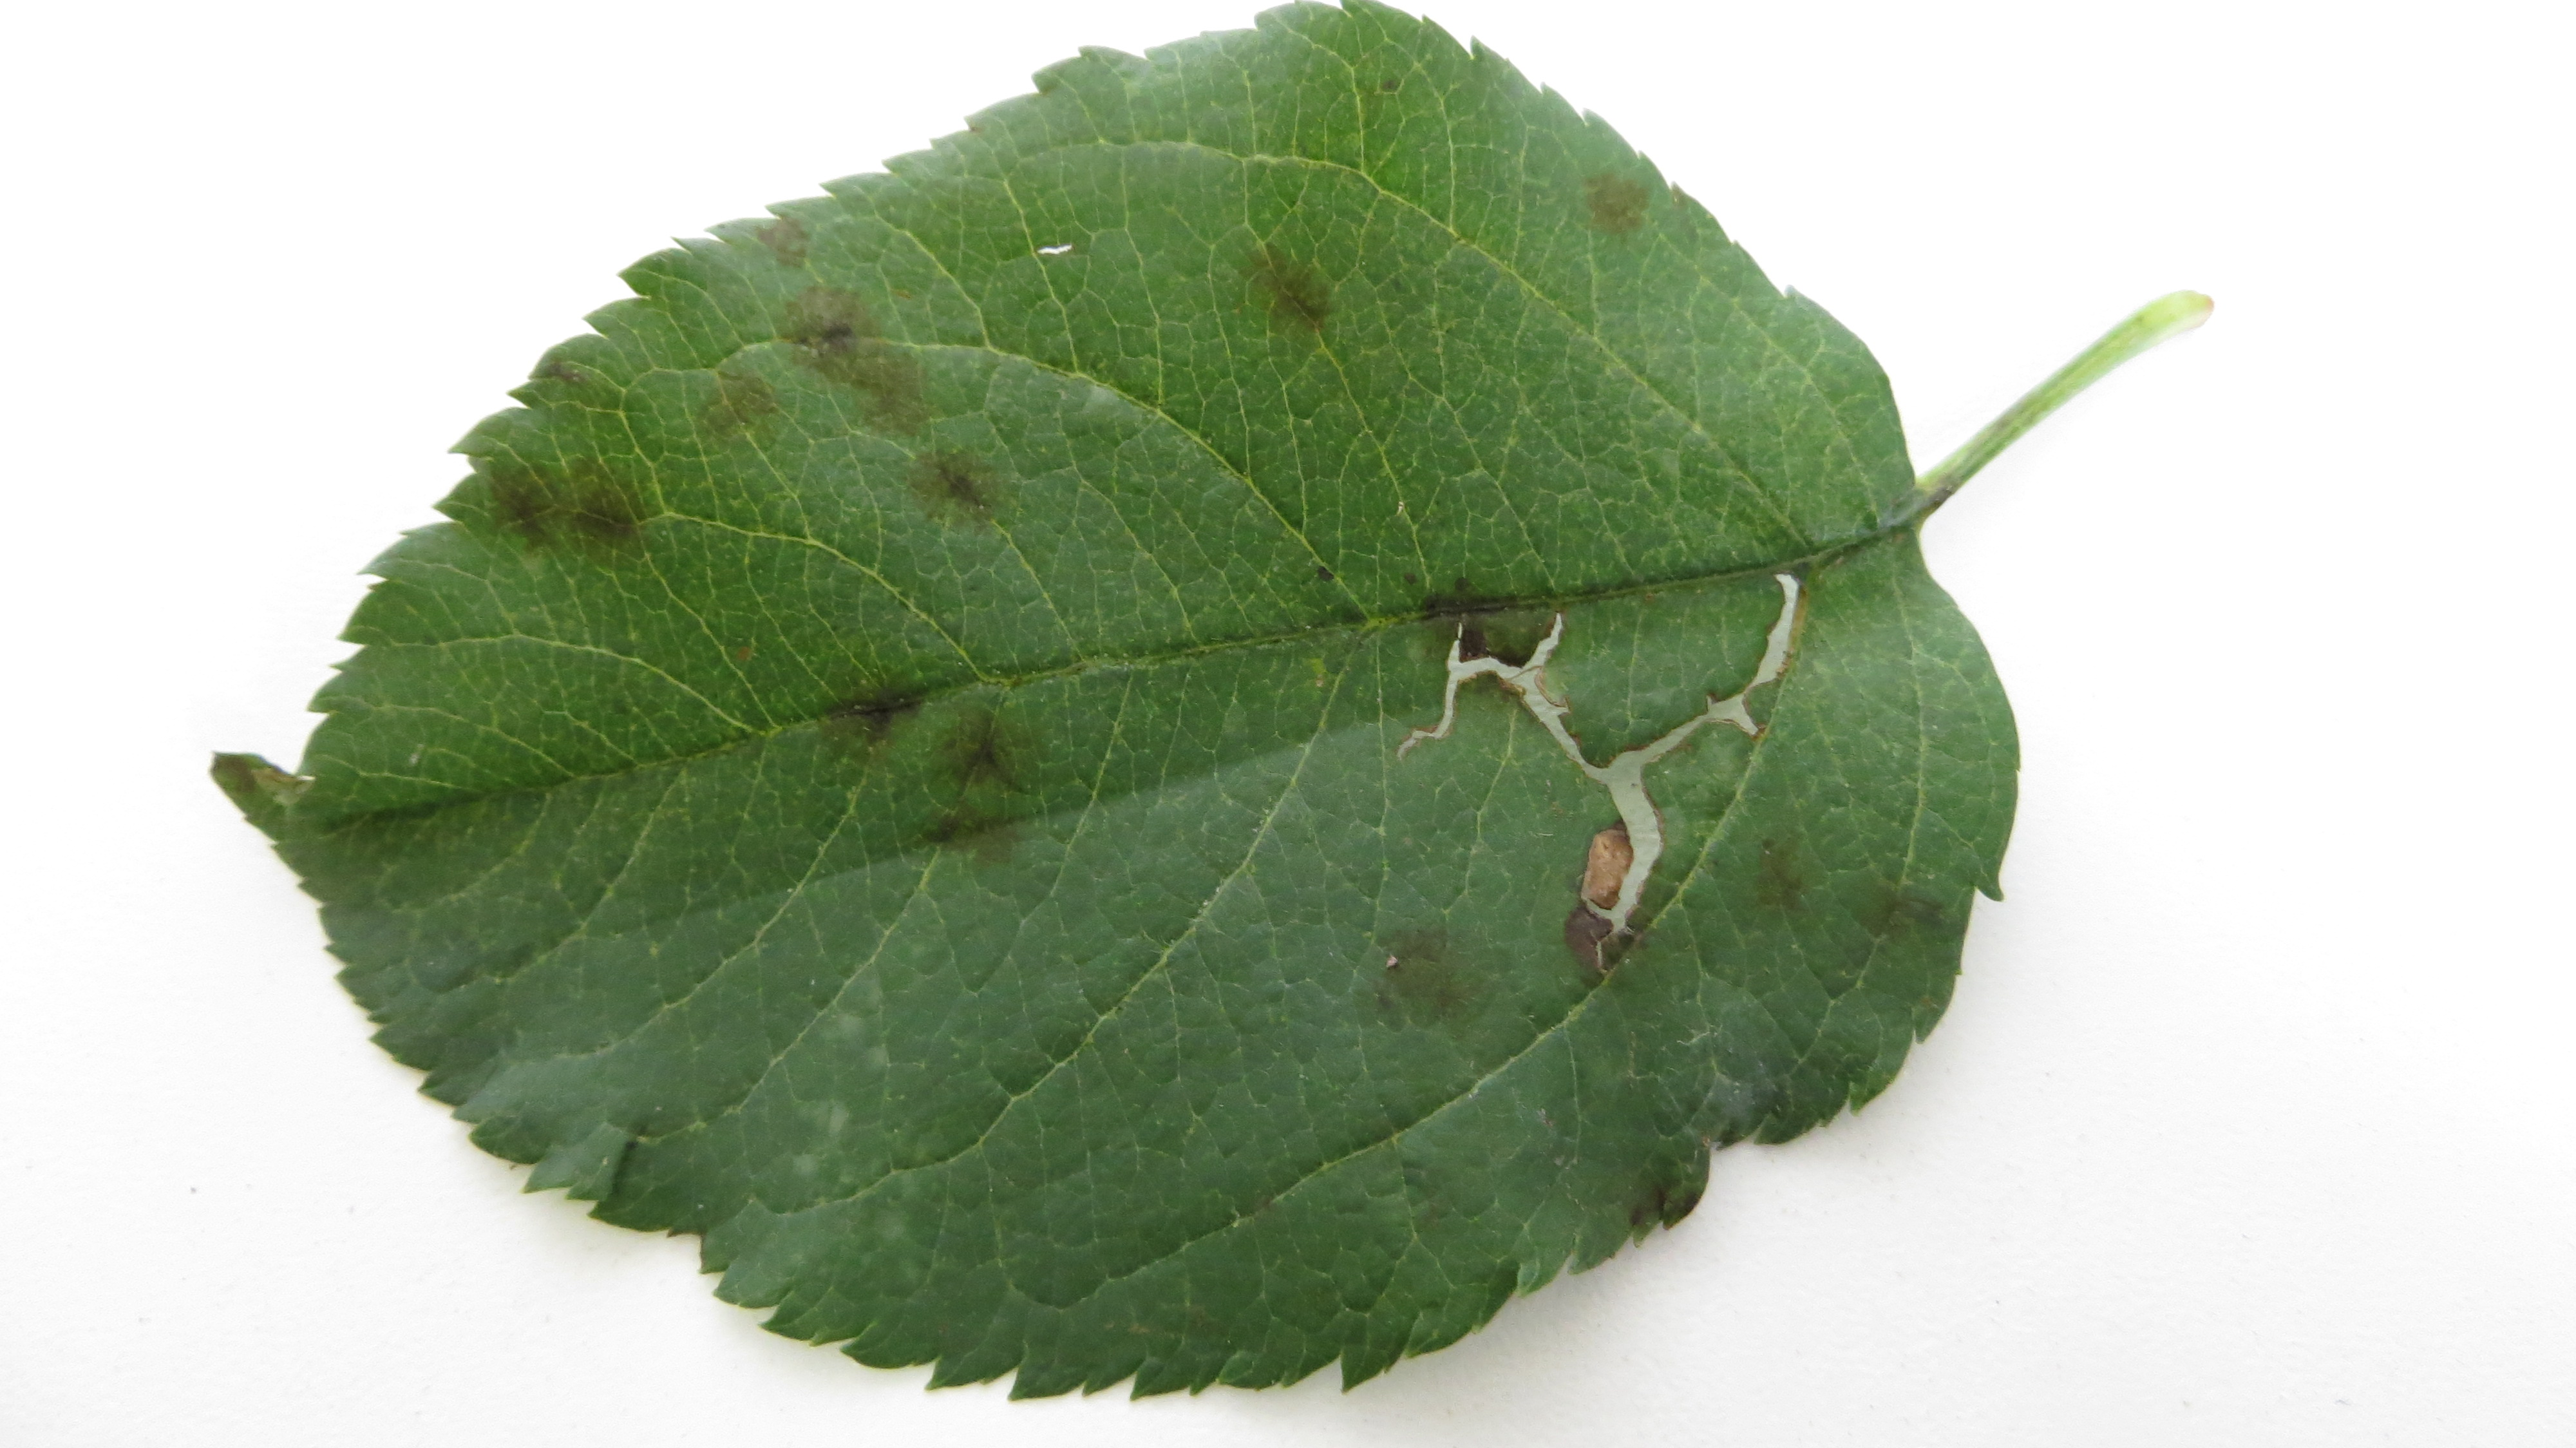sarna: (784, 278, 931, 437), (1348, 912, 1493, 1044), (1431, 581, 1576, 694), (1718, 1032, 1861, 1138), (1557, 862, 1658, 1000), (1240, 241, 1352, 345), (1615, 1106, 1714, 1221), (665, 366, 787, 453), (1838, 862, 1950, 956), (1557, 156, 1665, 251), (467, 428, 552, 538), (908, 434, 1003, 529), (824, 651, 922, 745), (1729, 811, 1810, 920), (557, 455, 642, 552), (916, 804, 1024, 869), (938, 703, 1012, 793)
